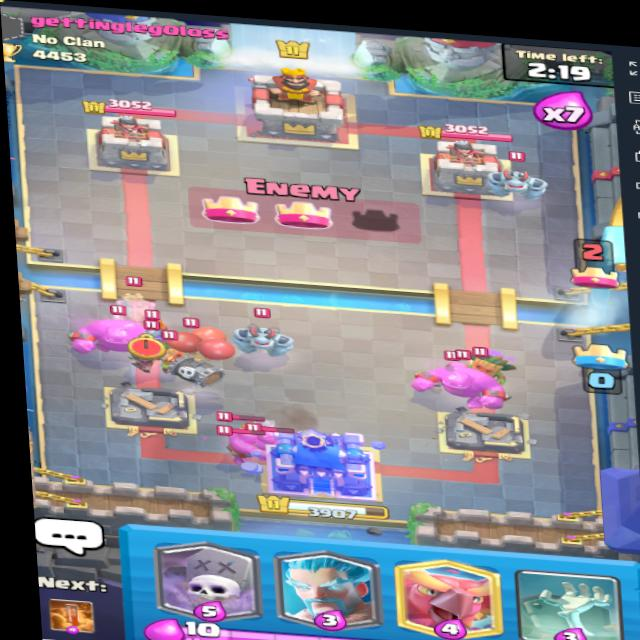dart-goblin: (138, 327, 185, 371), (471, 343, 523, 382)
electro-golem: (59, 297, 168, 360), (403, 356, 517, 416), (229, 417, 298, 462), (216, 424, 275, 465)
firecracker: (431, 339, 477, 373)
mega-minion: (470, 147, 559, 210), (228, 315, 294, 360)
royal-ghost: (105, 275, 165, 326)
skeleton-barrel: (162, 311, 232, 390)
valkyrie: (228, 417, 273, 449)
